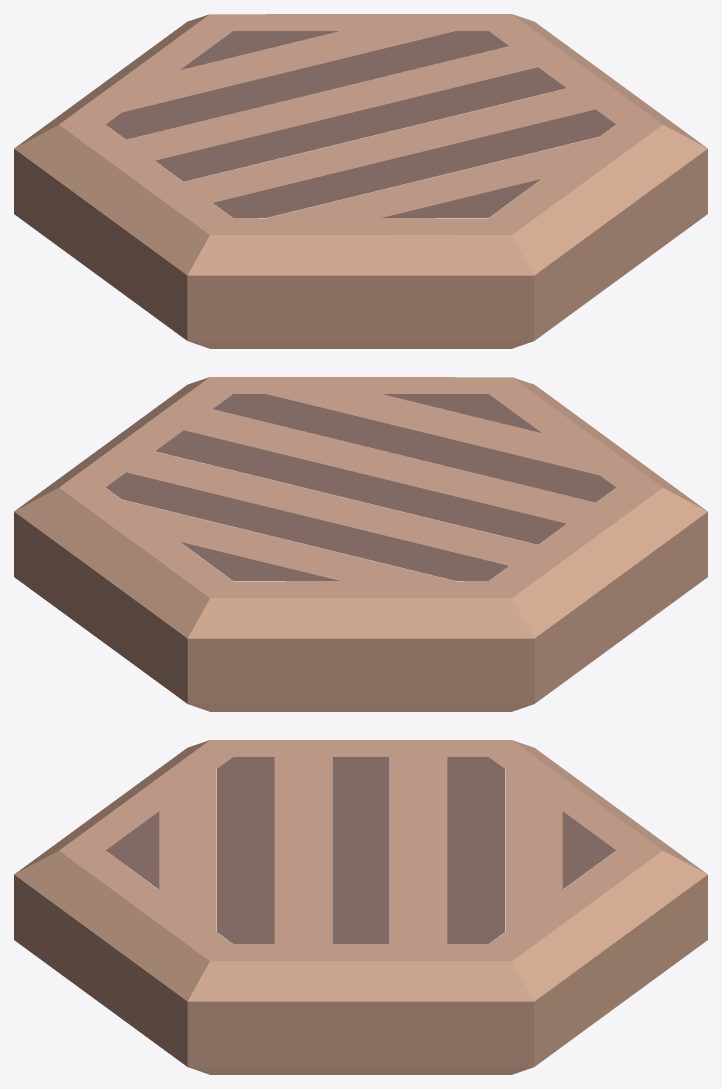
Rendered from meat-patty.glb.
The picture shows the model from 3 angles, top to bottom: view 1: azimuth 30°, elevation 25°; view 2: azimuth 150°, elevation 25°; view 3: azimuth 270°, elevation 25°; orthographic projection.
Parts seen in each view (by area): view 1: meatPatty; view 2: meatPatty; view 3: meatPatty.
Boxes of the visible parts, x1,y1,x2,y2 form: meatPatty: [14, 14, 707, 348]; meatPatty: [14, 377, 707, 711]; meatPatty: [14, 740, 707, 1074].
Bounding box in the file's own units: 0.2988 × 0.0624 × 0.345.
